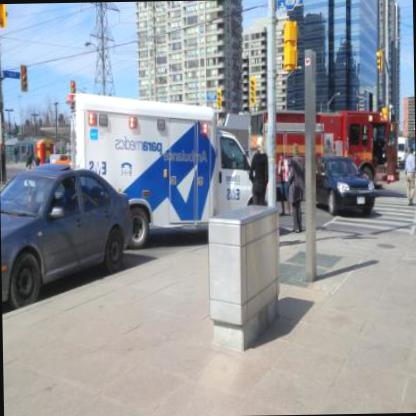truck: (64, 86, 258, 249)
